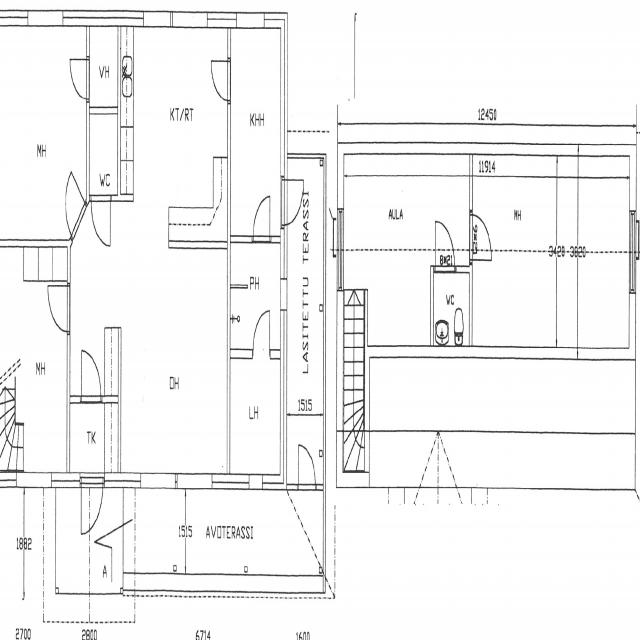door: (57, 170, 87, 240), (81, 474, 102, 540), (280, 180, 306, 224), (469, 214, 491, 260), (91, 194, 110, 245), (48, 286, 70, 330), (82, 352, 100, 403), (436, 222, 454, 273), (298, 444, 316, 489), (210, 61, 230, 101), (253, 311, 270, 358), (253, 197, 270, 242), (70, 59, 89, 99)
